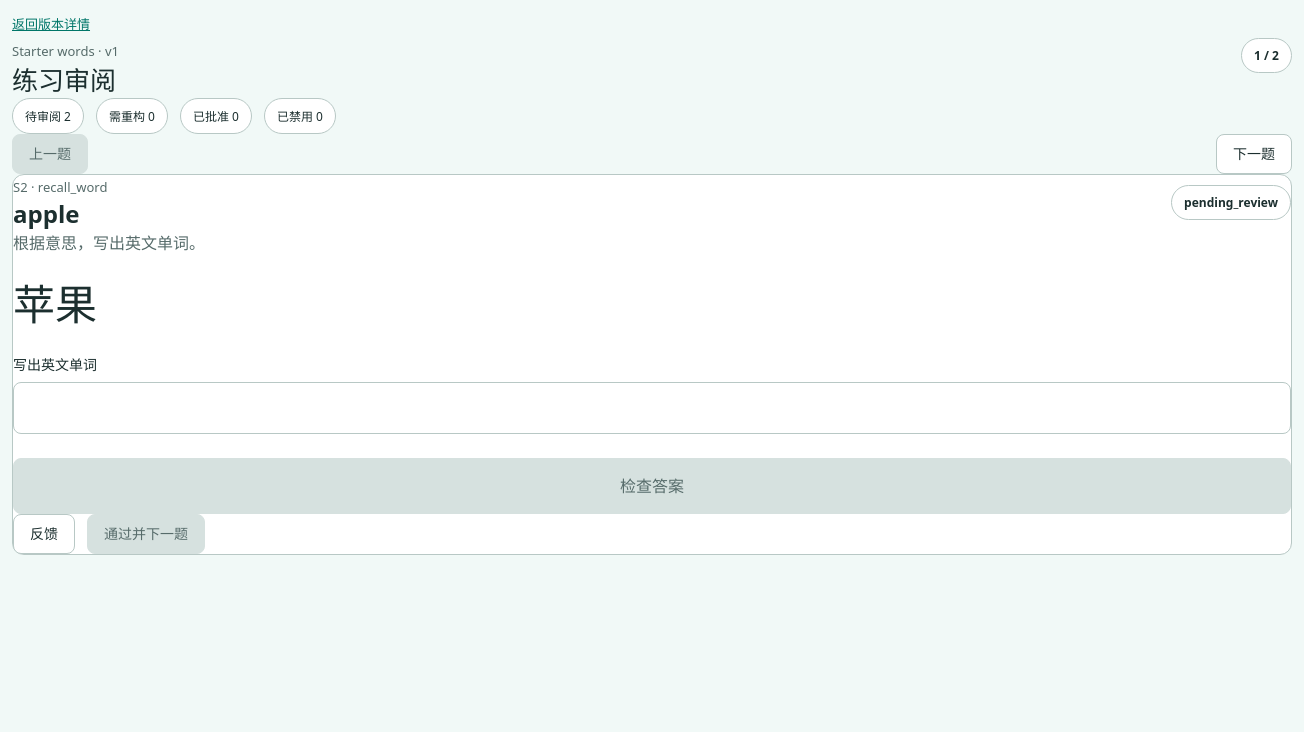
Test: ExerciseReviewPage › requires a successful simulation before one review approval and then re-reads
Expected: the element that starts with "返回版本详情" shows "apple", [13,197,79,230]
Expected: the text "1 / 2" is shown, [1241,38,1292,72]
Type "apple" into the field labelled "写出英文单词". click: (652, 408)
box: [13,382,1291,434]
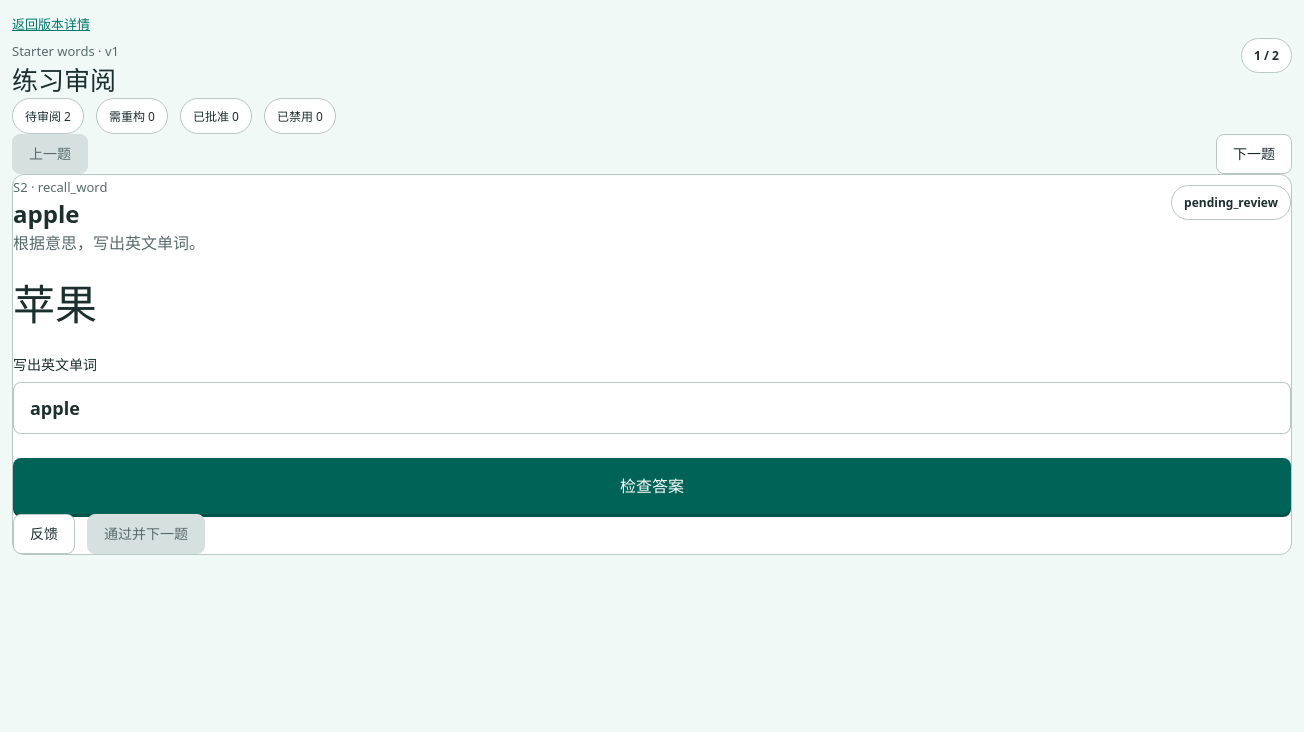
Submit the form, box [13,230,1291,514]
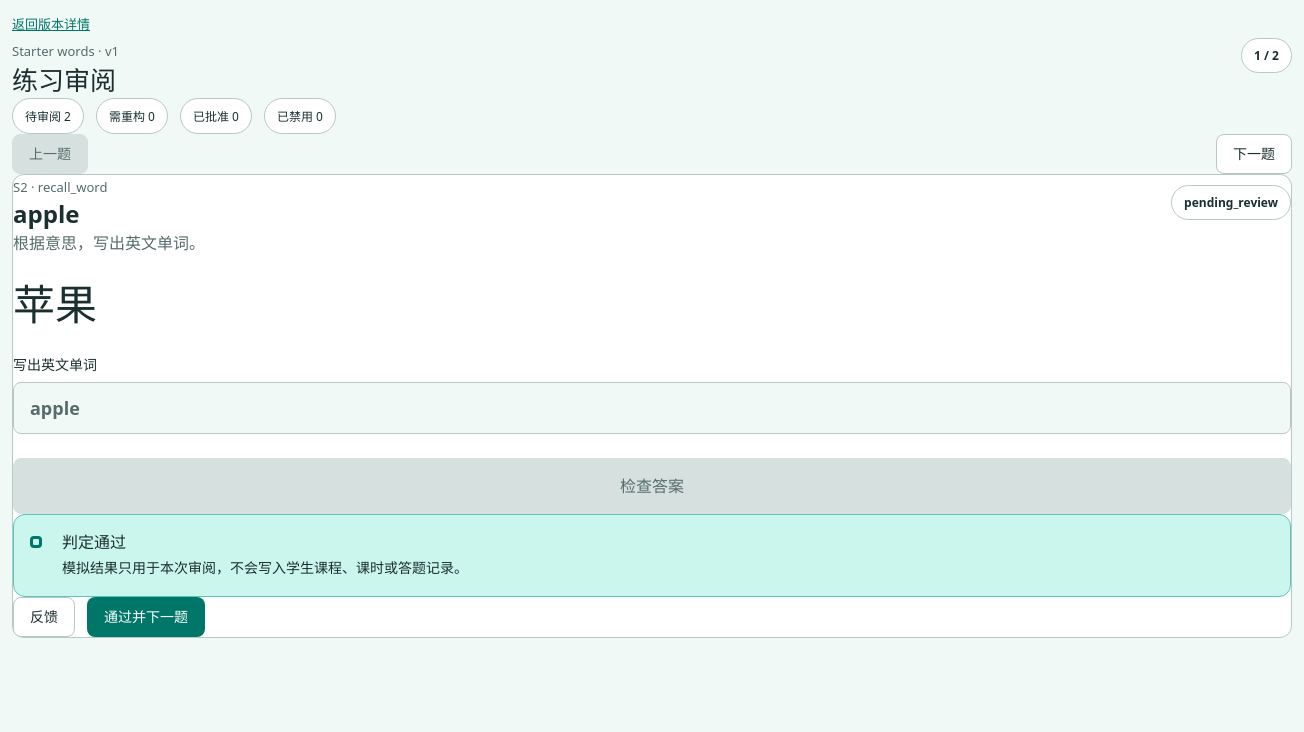
Expected: the message "判定通过 模拟结果只用于本次审阅，不会写入学生课程、课时或答题记录。" is shown, [13,514,1291,597]
Expected: the button "通过并下一题" is enabled
Click the button "通过并下一题". click: (146, 617)
box: [87,597,205,637]
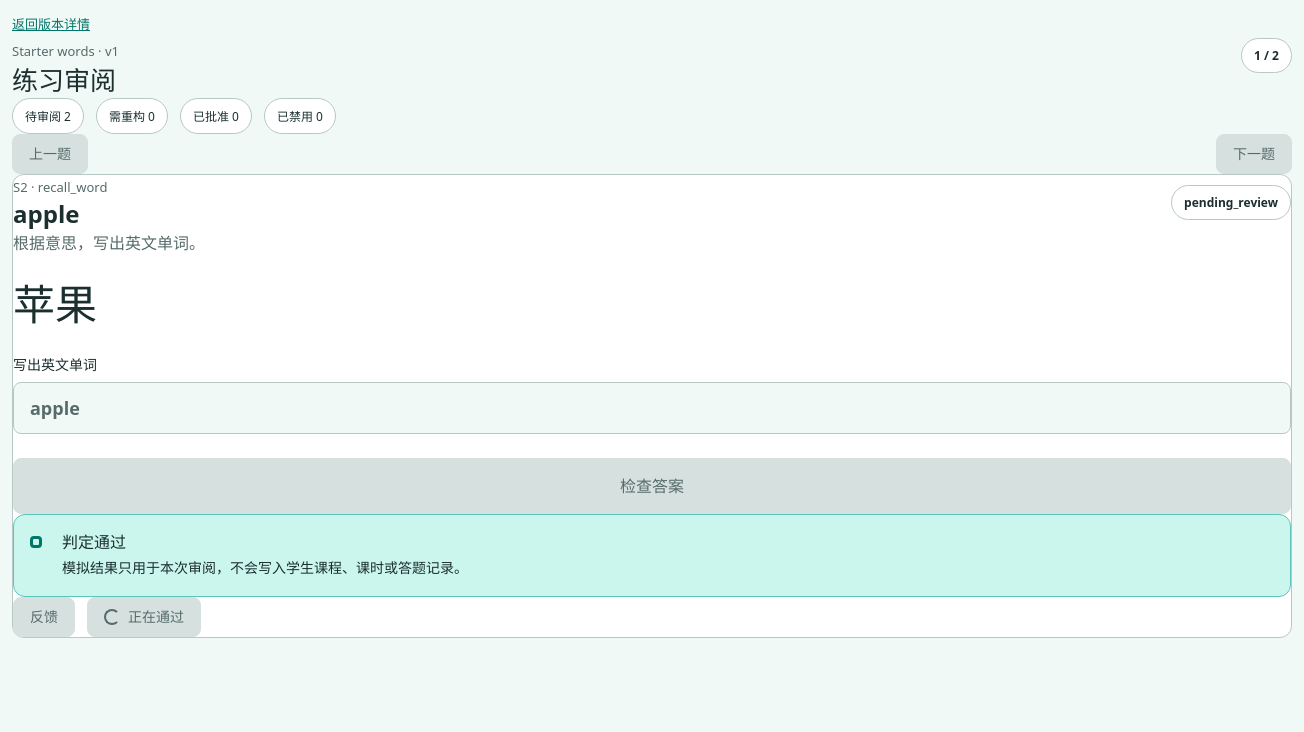
Click the button "正在通过". click: (144, 617)
box: [87,597,201,637]
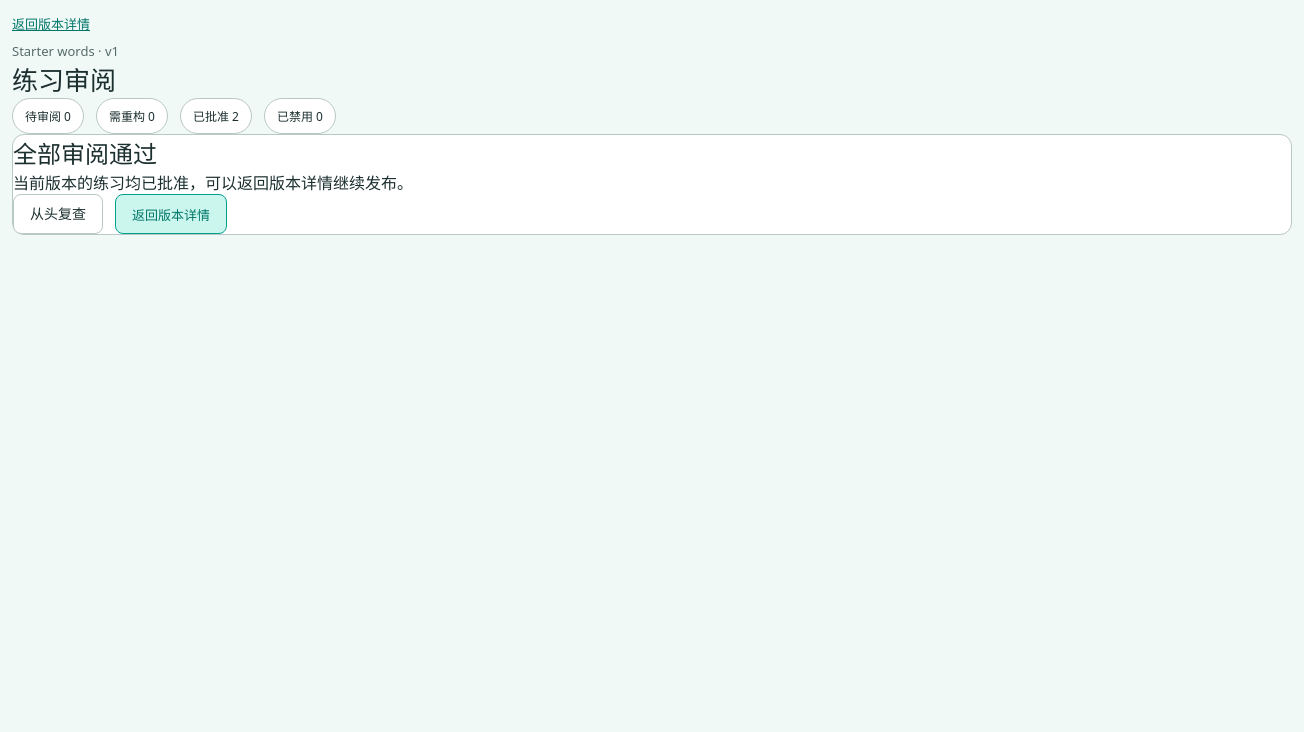
Expected: the element showing "全部审阅通过 当前版本的练习均已批准，可以返回版本详情继续发布。 从头复查 返回版本详情" is shown, [12,134,1292,235]
